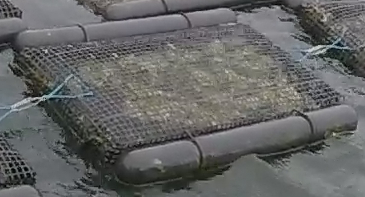bag: (24, 13, 357, 183)
